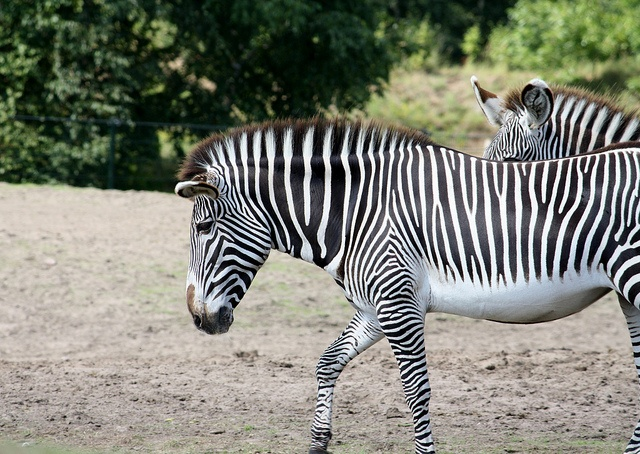zebra: (175, 118, 633, 454), (472, 77, 640, 161)
